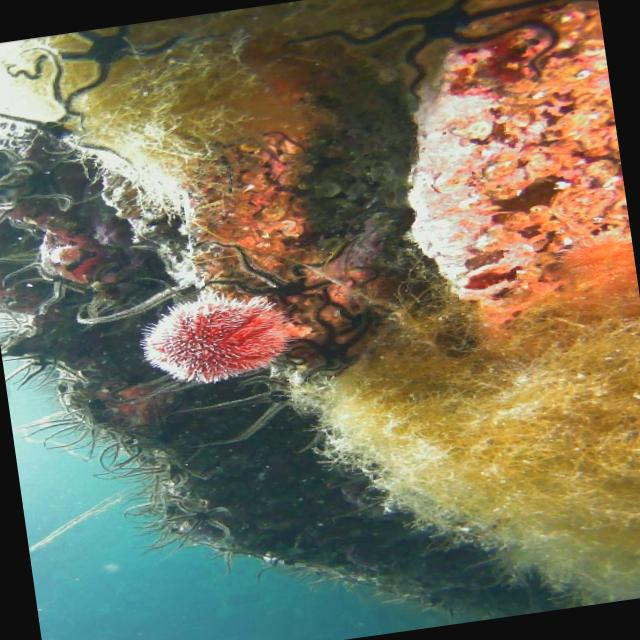Deniz Kestanesi: (132, 281, 304, 393), (48, 242, 84, 266)
